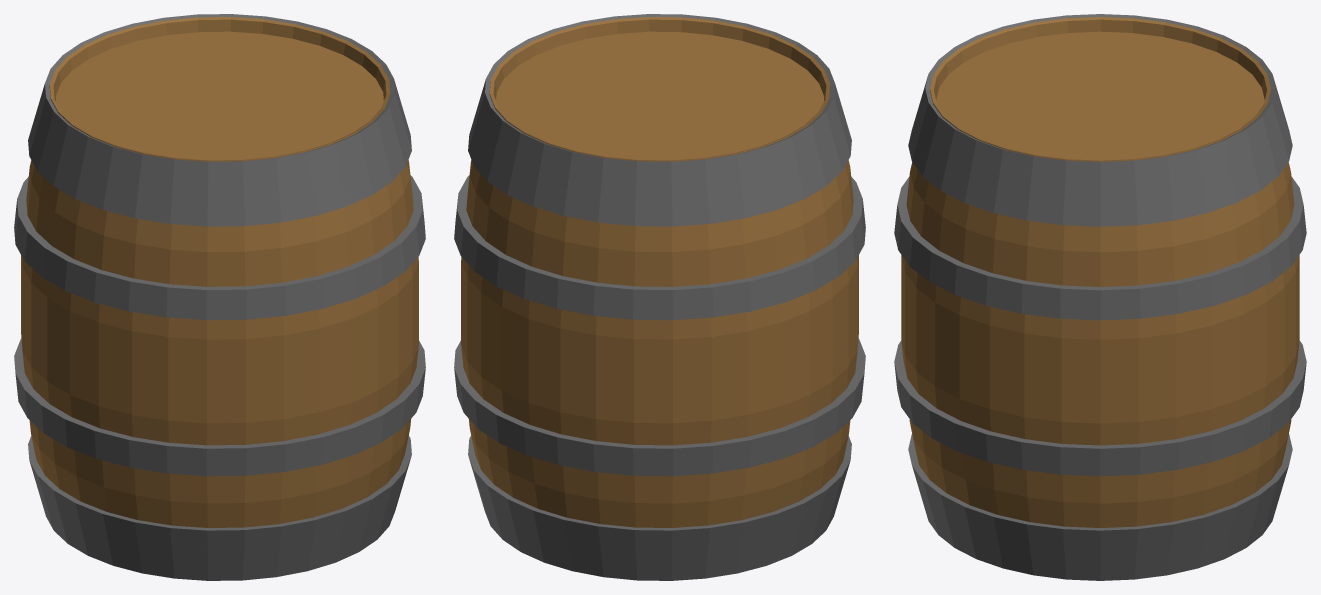
File: Barrel.fbx
3 renders of one model, left to right at view 1: azimuth 30°, elevation 25°; view 2: azimuth 150°, elevation 25°; view 3: azimuth 270°, elevation 25°, orthographic.
Visible parts, largest first — view 1: Barrel, Stripes; view 2: Barrel, Stripes; view 3: Barrel, Stripes.
Boxes of the visible parts, left/top/right/bottom form: Barrel: left=21, top=17, right=418, bottom=527; Stripes: left=14, top=14, right=425, bottom=580; Barrel: left=461, top=17, right=858, bottom=527; Stripes: left=454, top=14, right=865, bottom=580; Barrel: left=901, top=17, right=1299, bottom=527; Stripes: left=894, top=14, right=1306, bottom=580.
Size of the model in its own units: 89.29 by 100 by 89.29.
